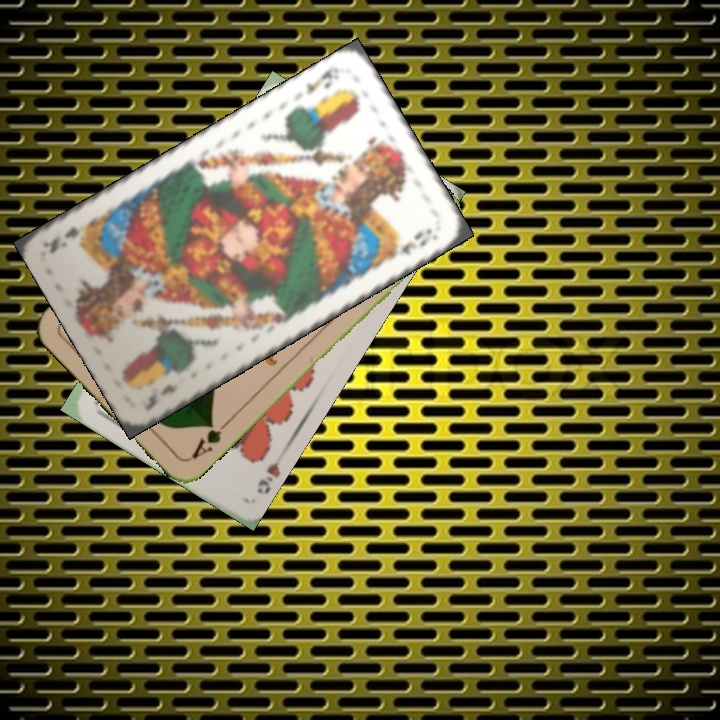EK: (302, 62, 342, 98), (141, 380, 181, 414)
GA: (188, 416, 233, 462)
H9: (253, 457, 282, 497)
